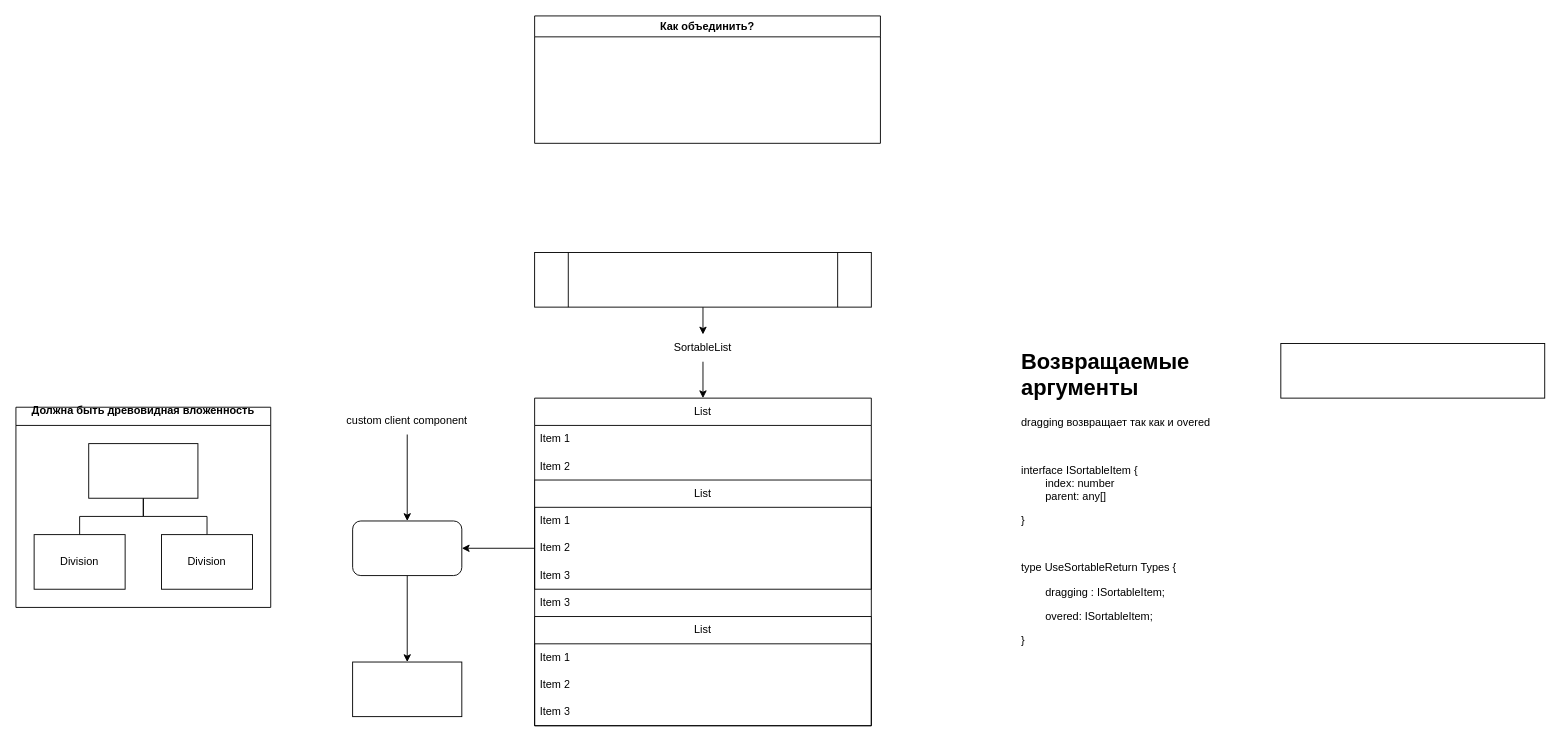
This 1561x742 diagram has some shape labels left out. The shapes that lost their labels are listed below. From the top down, each one's centre as x and y in pixels, then its label:
(x=702, y=279): items: any[]
(x=1412, y=370): const { dragging, overed } = useSortable()
(x=143, y=470): Organization
(x=407, y=548): Draggable.vue
